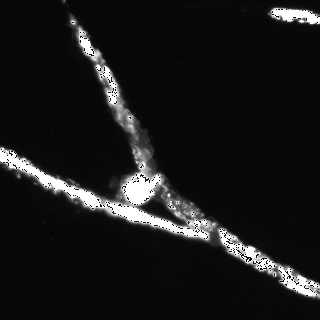embryo: (163, 198, 204, 222), (194, 217, 223, 248), (130, 135, 154, 163), (114, 108, 139, 134), (137, 157, 157, 183)
